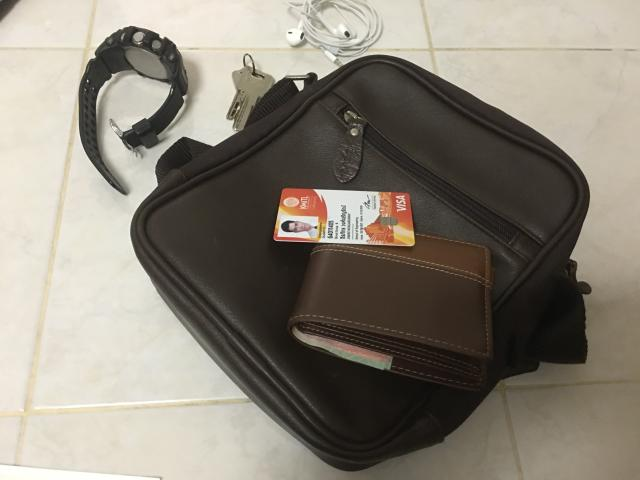Keys: (226, 54, 275, 131)
Wallet: (288, 212, 494, 390)
Watch: (79, 26, 188, 194)
wire: (286, 0, 382, 65)
